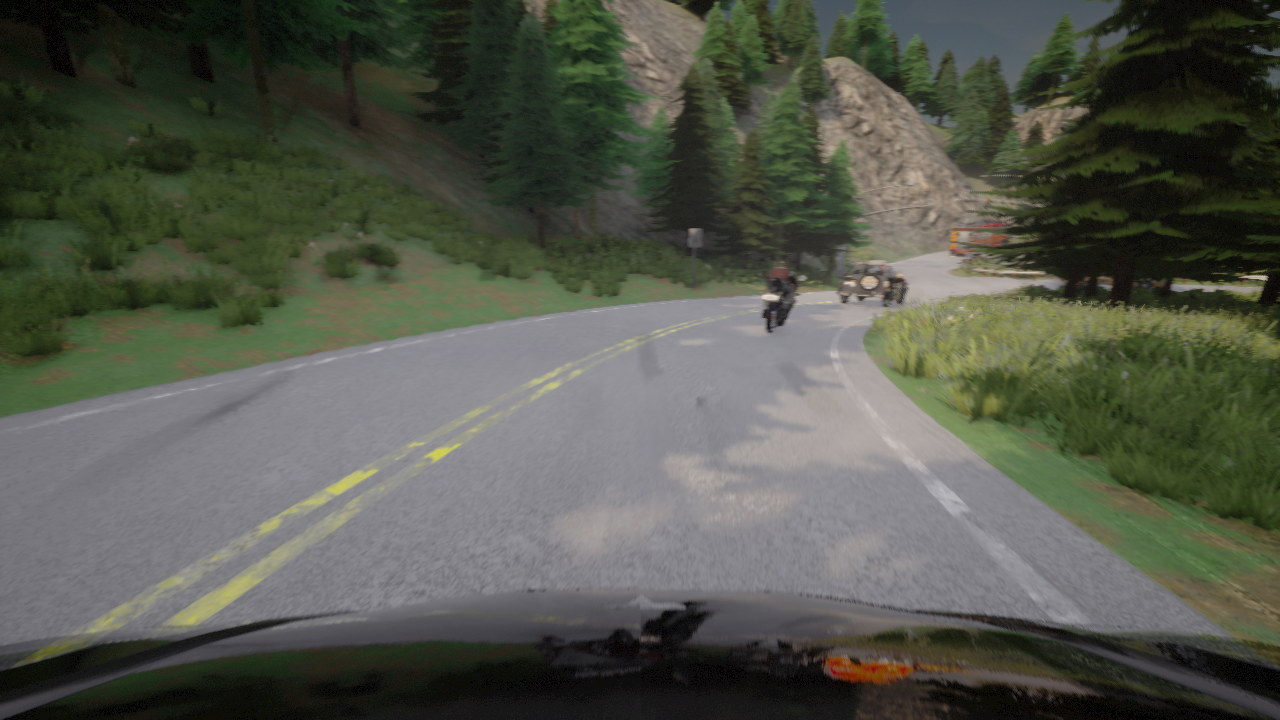cyclist: (0, 588, 1279, 719), (837, 261, 907, 307), (759, 275, 804, 333), (949, 220, 1010, 255), (1059, 273, 1163, 290)
